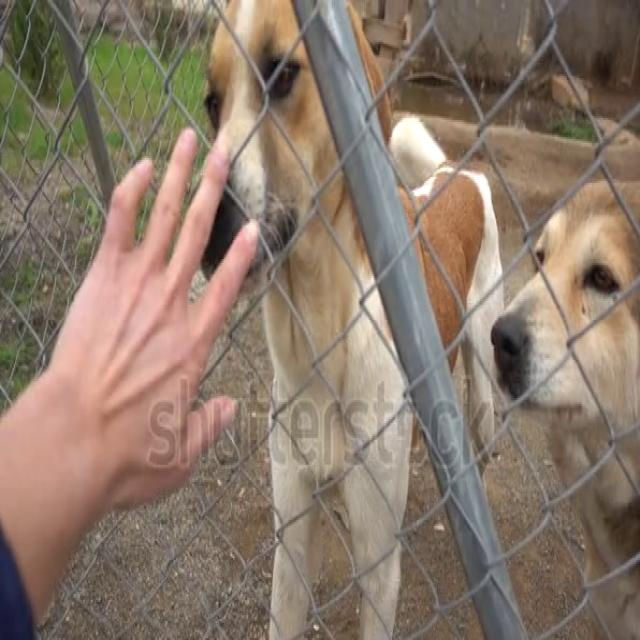normal_animals: (195, 0, 507, 638), (468, 128, 640, 562)
